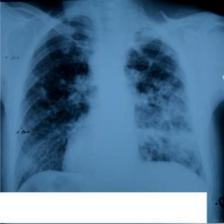tuberculosis: (13, 8, 210, 191)
